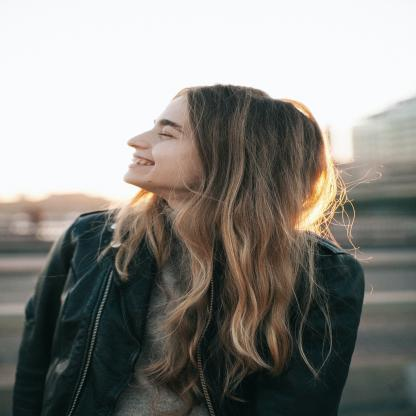Eye: (160, 128, 176, 139)
Mouth: (128, 153, 156, 168)
Nose: (127, 129, 155, 149)
